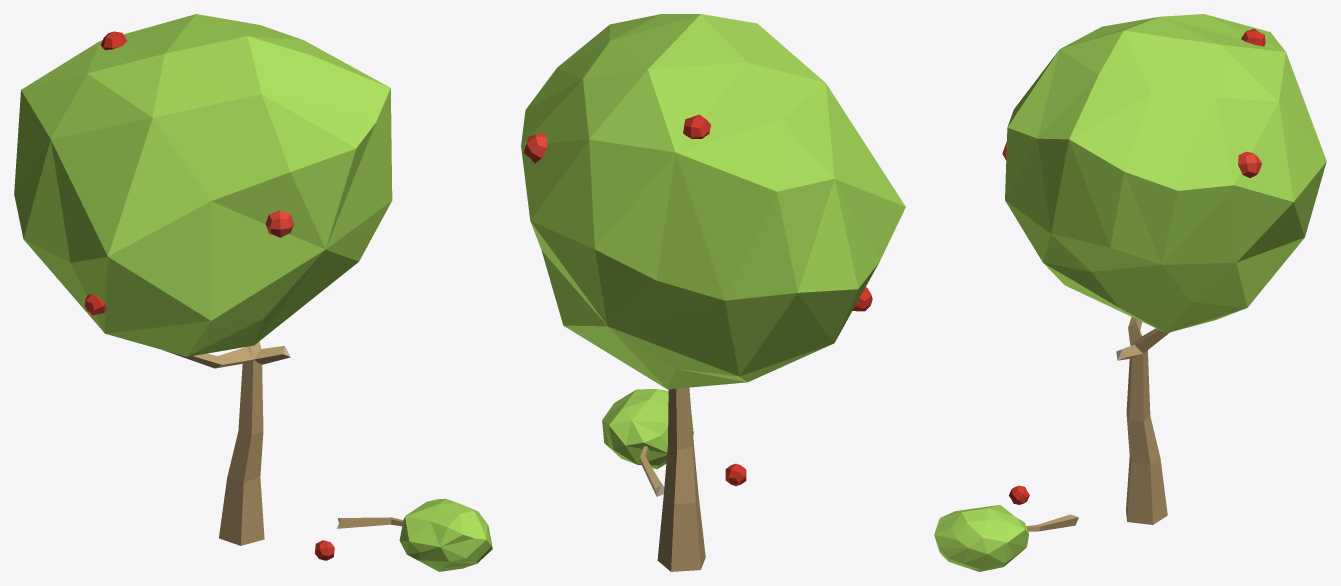
Rendered from Apple_Tree_Apples_crk_m_02_LOD.fbx.
3 renders of one model, left to right at view 1: azimuth 30°, elevation 25°; view 2: azimuth 150°, elevation 25°; view 3: azimuth 270°, elevation 25°, orthographic. The views are drawn at different scales.
Visible parts, largest first — view 1: Apple_Tree_Apples_crk_m_02_LOD0; view 2: Apple_Tree_Apples_crk_m_02_LOD0; view 3: Apple_Tree_Apples_crk_m_02_LOD0.
Part boxes in pixels (x1=…): Apple_Tree_Apples_crk_m_02_LOD0: x1=14, y1=14, x2=492, y2=571; Apple_Tree_Apples_crk_m_02_LOD0: x1=521, y1=14, x2=905, y2=571; Apple_Tree_Apples_crk_m_02_LOD0: x1=934, y1=14, x2=1326, y2=571.
Size of what is drawn, in the model's own units: 476 by 668 by 492.
